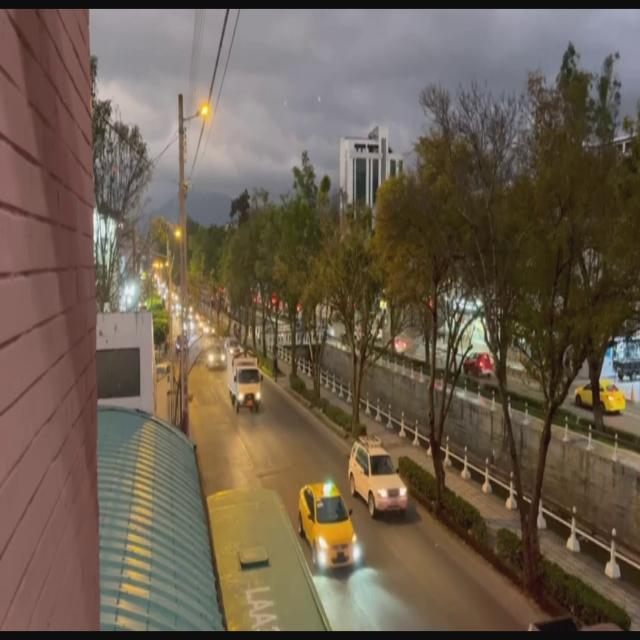SED: (299, 487, 354, 563)
SUV: (352, 442, 406, 510)
TRUCK: (230, 356, 261, 413)
